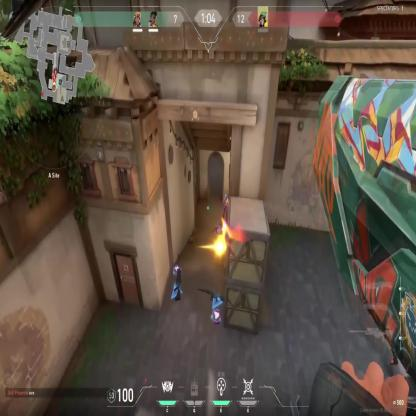enemy: (223, 193, 229, 225)
enemy_head: (225, 193, 227, 200)
